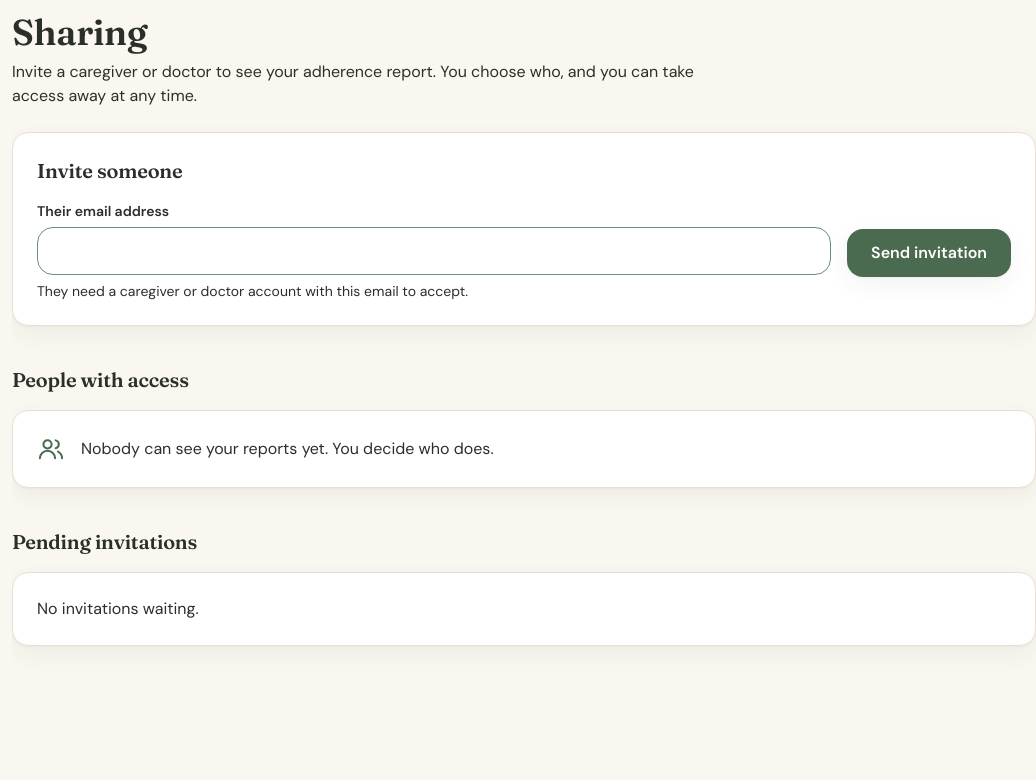
Test case: SharingPage: inviting › posts the email and shows the neutral confirmation, clears the field and refreshes the lists
This screenshot has width=1036, height=780.
expect the text "No invitations waiting." is shown: met, box top-left (37, 598), bottom-right (199, 619)
In the field labelled "Their email address": (434, 251) top-left (37, 227), bottom-right (831, 275), type "  new@example.com "
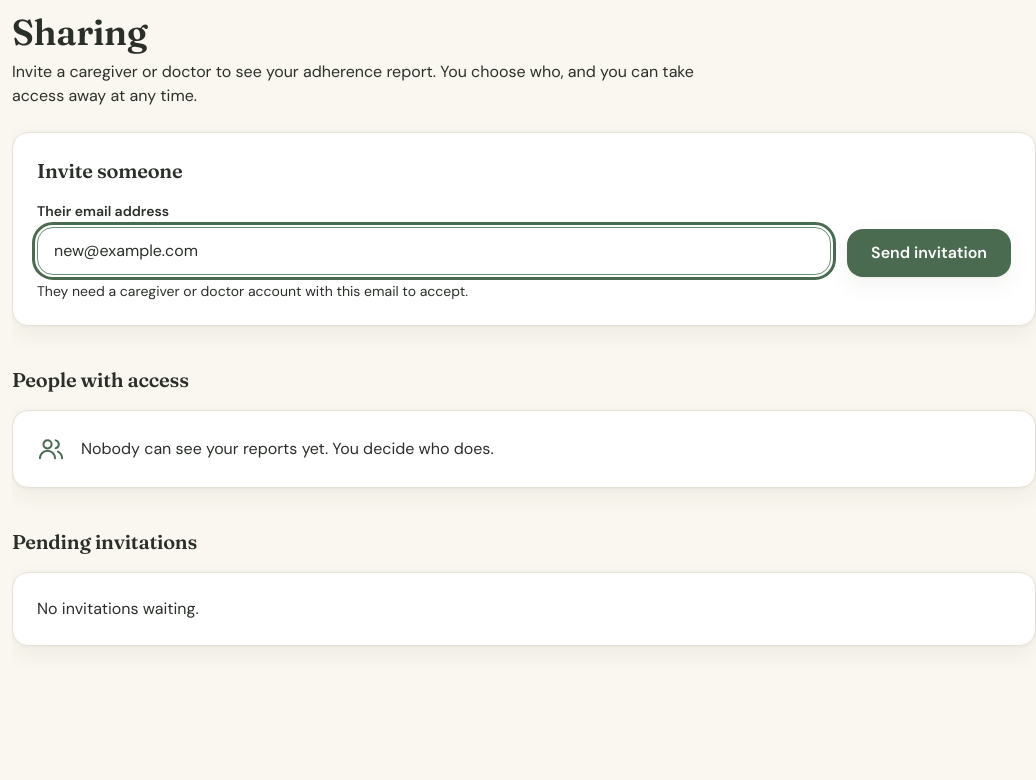
Click the button "Send invitation": (929, 253) top-left (847, 229), bottom-right (1011, 277)
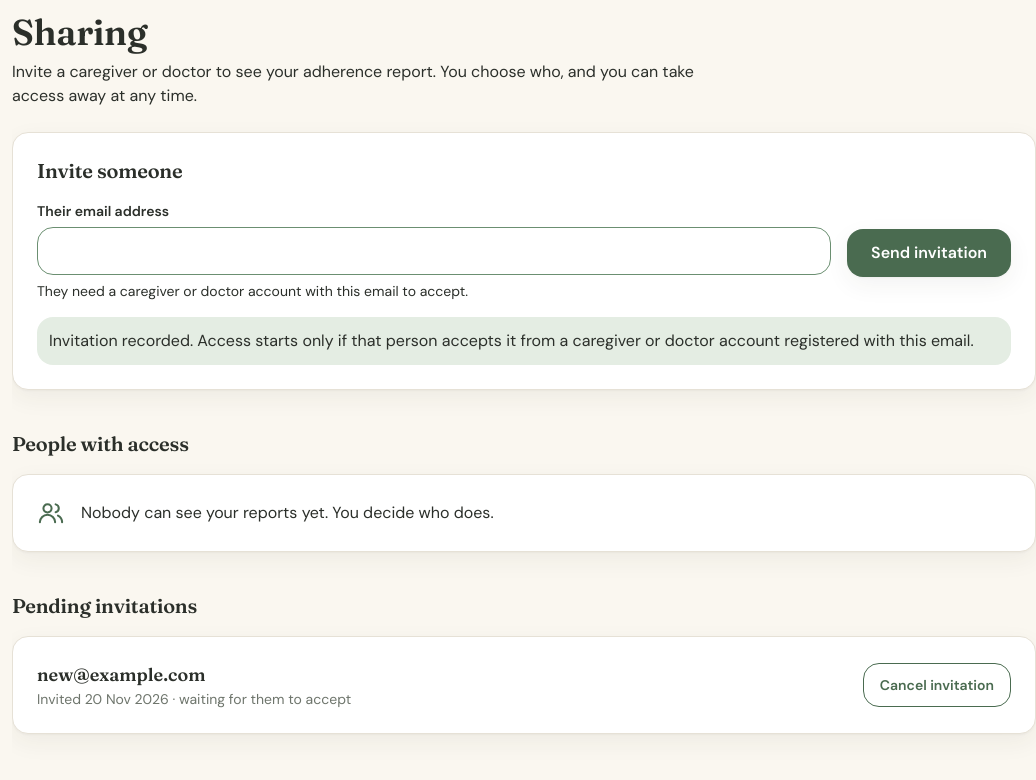
expect the message shows "Invitation recorded. Access starts only if that person accepts it from a caregiver or doctor account registered with this email.": met, box top-left (49, 330), bottom-right (974, 351)
expect the field labelled "Their email address" is empty: met, box top-left (37, 227), bottom-right (831, 275)
expect the button "Cancel invitation" is shown: met, box top-left (863, 663), bottom-right (1011, 707)
